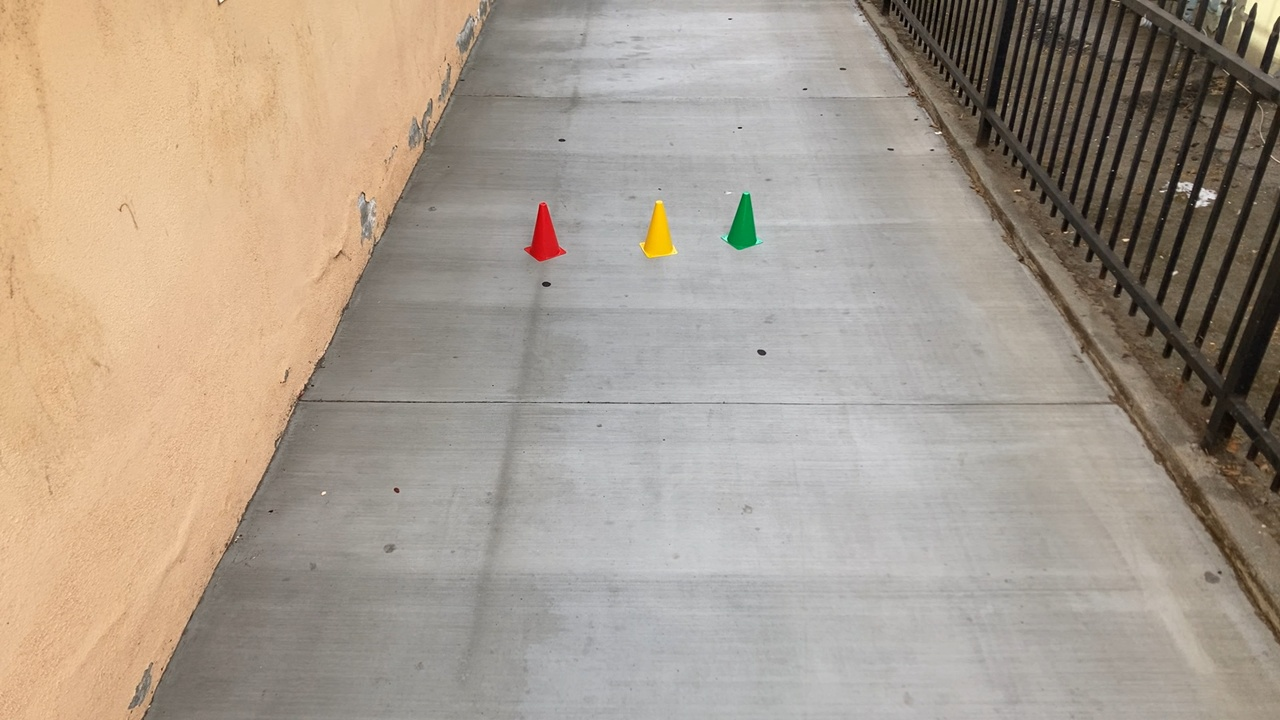green_cone: (720, 191, 766, 253)
red_cone: (524, 201, 570, 265)
yellow_cone: (638, 197, 679, 260)
